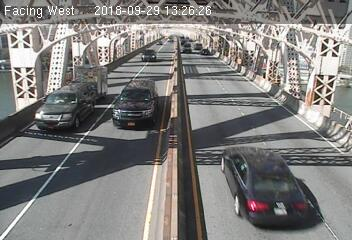car: (214, 145, 314, 227), (37, 83, 94, 136), (114, 80, 160, 128), (65, 63, 111, 101), (136, 50, 158, 64), (181, 43, 192, 54), (200, 47, 211, 56), (155, 38, 161, 45), (195, 40, 200, 46)
